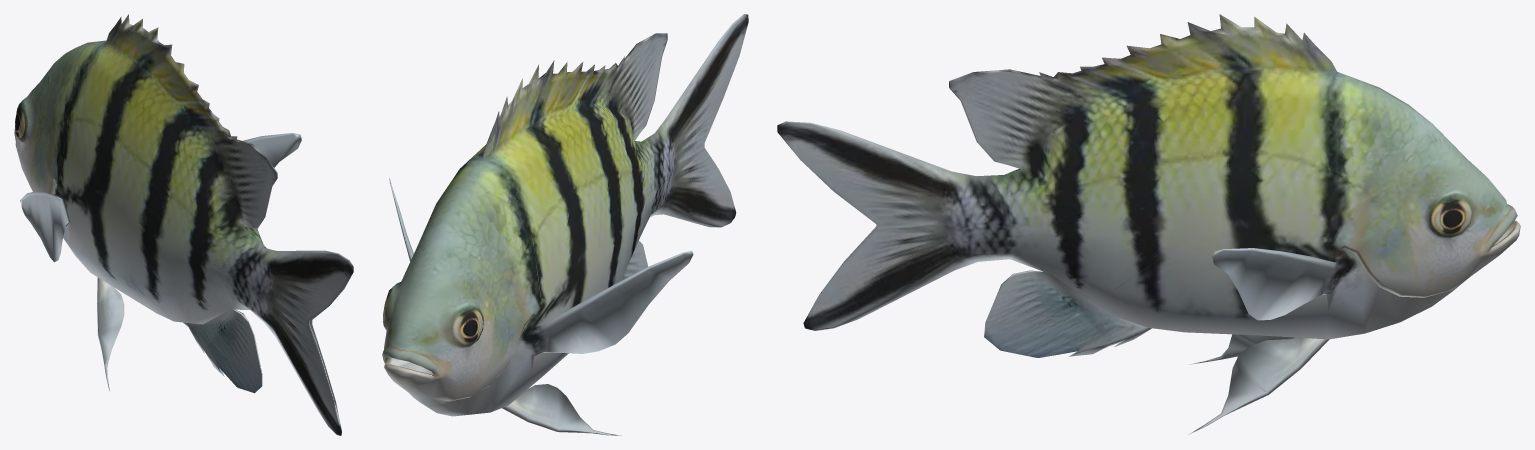
The model's file is sergeant.glb.
3 renders of one model, left to right at view 1: azimuth 30°, elevation 25°; view 2: azimuth 150°, elevation 25°; view 3: azimuth 270°, elevation 25°, orthographic. The views are drawn at different scales.
Parts seen in each view (by area): view 1: tripo_node_7df138db-bdad-4a00-9b58-2d522f92c8d0; view 2: tripo_node_7df138db-bdad-4a00-9b58-2d522f92c8d0; view 3: tripo_node_7df138db-bdad-4a00-9b58-2d522f92c8d0.
Part boxes in pixels (x1,y1,x2,y2): tripo_node_7df138db-bdad-4a00-9b58-2d522f92c8d0: (14,14,353,435); tripo_node_7df138db-bdad-4a00-9b58-2d522f92c8d0: (382,14,748,435); tripo_node_7df138db-bdad-4a00-9b58-2d522f92c8d0: (777,14,1520,435).
Size of the model in its own units: 0.1295 by 0.15 by 0.2616.
Materials: 1 (1 with a texture image).
